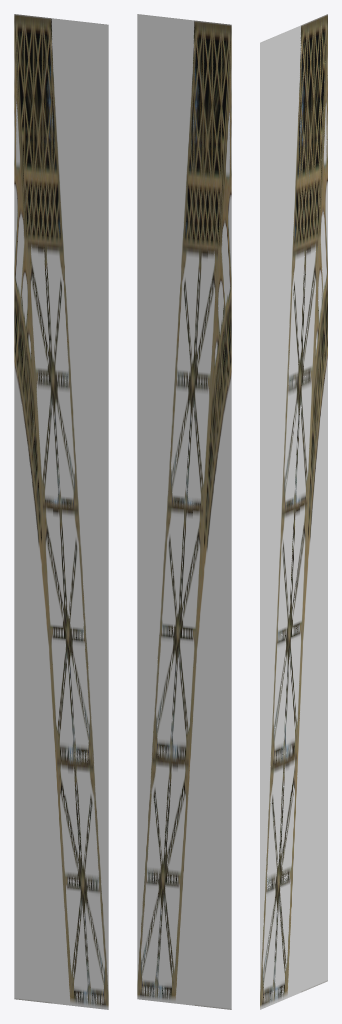
The model's file is 埃菲尔铁塔62.dae.
The picture shows the model from 3 angles, left to right: view 1: azimuth 30°, elevation 25°; view 2: azimuth 210°, elevation 25°; view 3: azimuth 270°, elevation 25°; orthographic projection.
Visible parts, largest first — view 1: SketchUp; view 2: SketchUp; view 3: SketchUp.
Part boxes in pixels (<box>): SketchUp: <box>14,14,108,1009</box>; SketchUp: <box>137,14,231,1009</box>; SketchUp: <box>260,14,327,1009</box>.
Size of the model in its own units: 67.94 by 67.94 by 1068.
